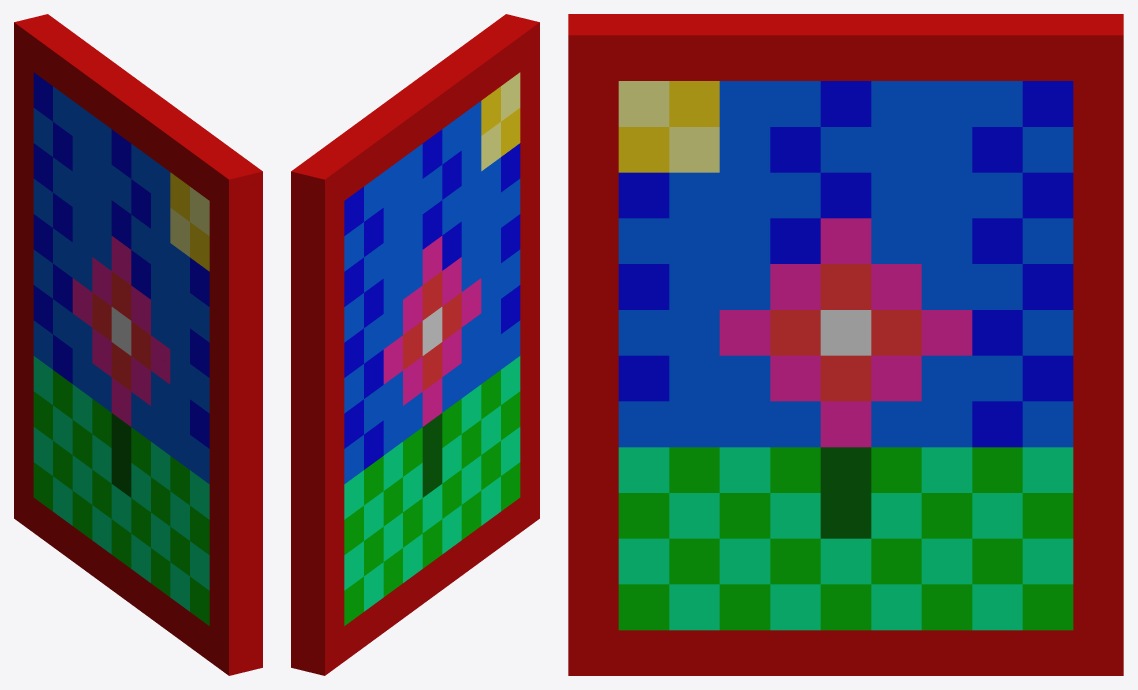
File: picture.obj
3 views of the same model, side by side, from view 1: azimuth 30°, elevation 25°; view 2: azimuth 150°, elevation 25°; view 3: azimuth 270°, elevation 25° (orthographic). The views are drawn at different scales.
Size of the model in its own units: 0.1 by 1.4 by 1.1.
Materials: 1 (1 with a texture image).
